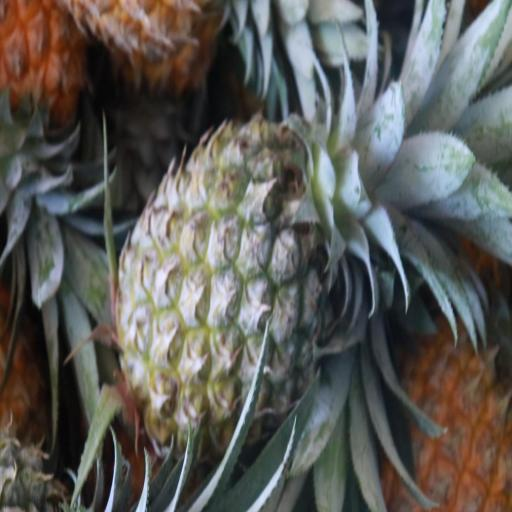------------------------------: (116, 122, 336, 448)
Pineapple - v8 v1: (387, 235, 511, 511)
